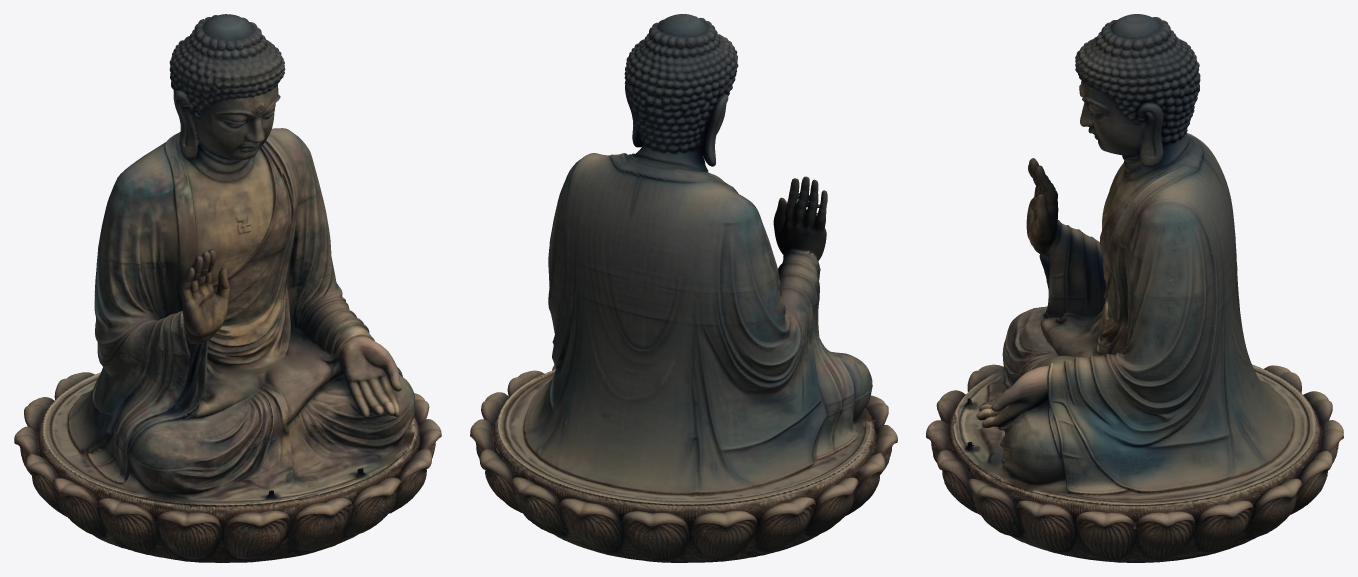
The model's file is Sample_High.glb.
3 renders of one model, left to right at view 1: azimuth 30°, elevation 25°; view 2: azimuth 150°, elevation 25°; view 3: azimuth 270°, elevation 25°, orthographic.
Visible parts, largest first — view 1: big buddha1_1a; view 2: big buddha1_1a; view 3: big buddha1_1a.
Boxes of the visible parts, left/top/right/bottom form: big buddha1_1a: left=14, top=14, right=441, bottom=562; big buddha1_1a: left=470, top=14, right=897, bottom=562; big buddha1_1a: left=926, top=14, right=1343, bottom=562.
Bounding box in the file's own units: 60.4 × 75 × 59.5.
Materials: 1 (1 with a texture image).
